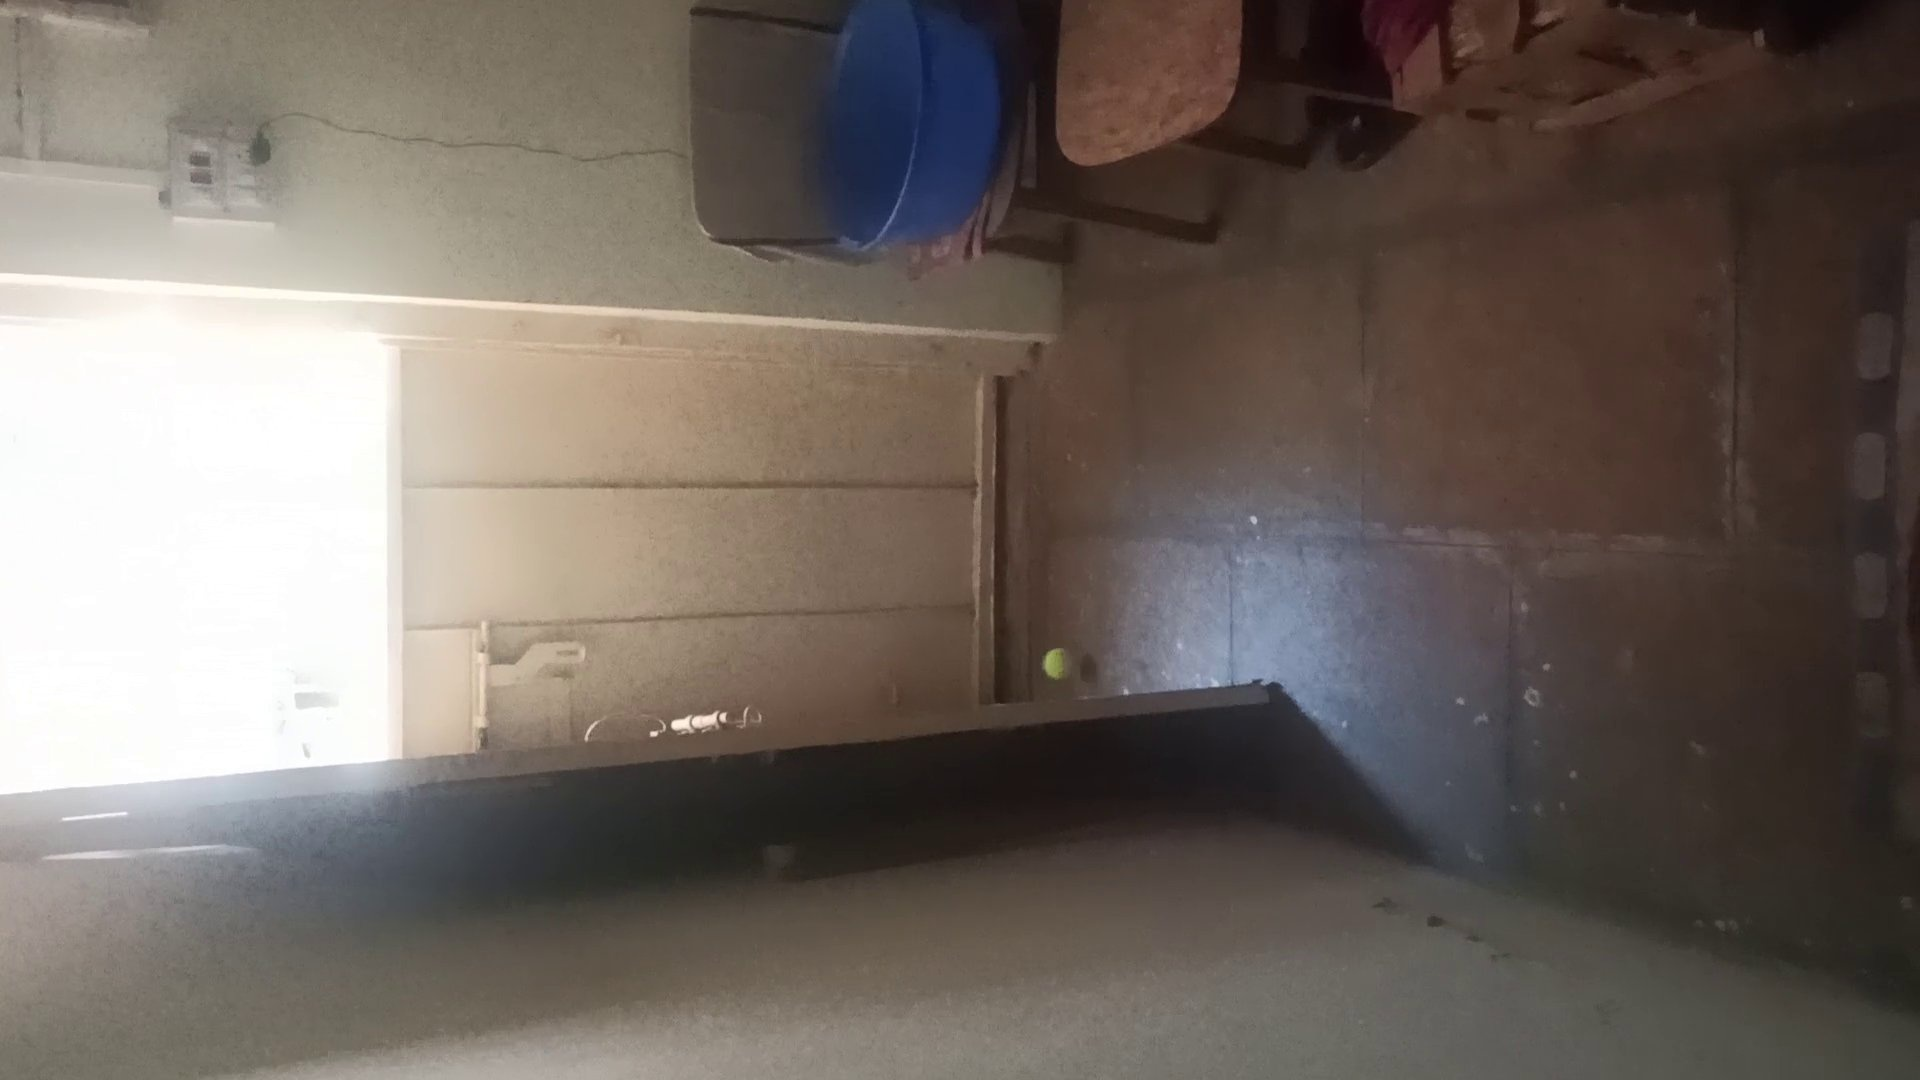Tennis-Ball: (1044, 647, 1069, 678)
